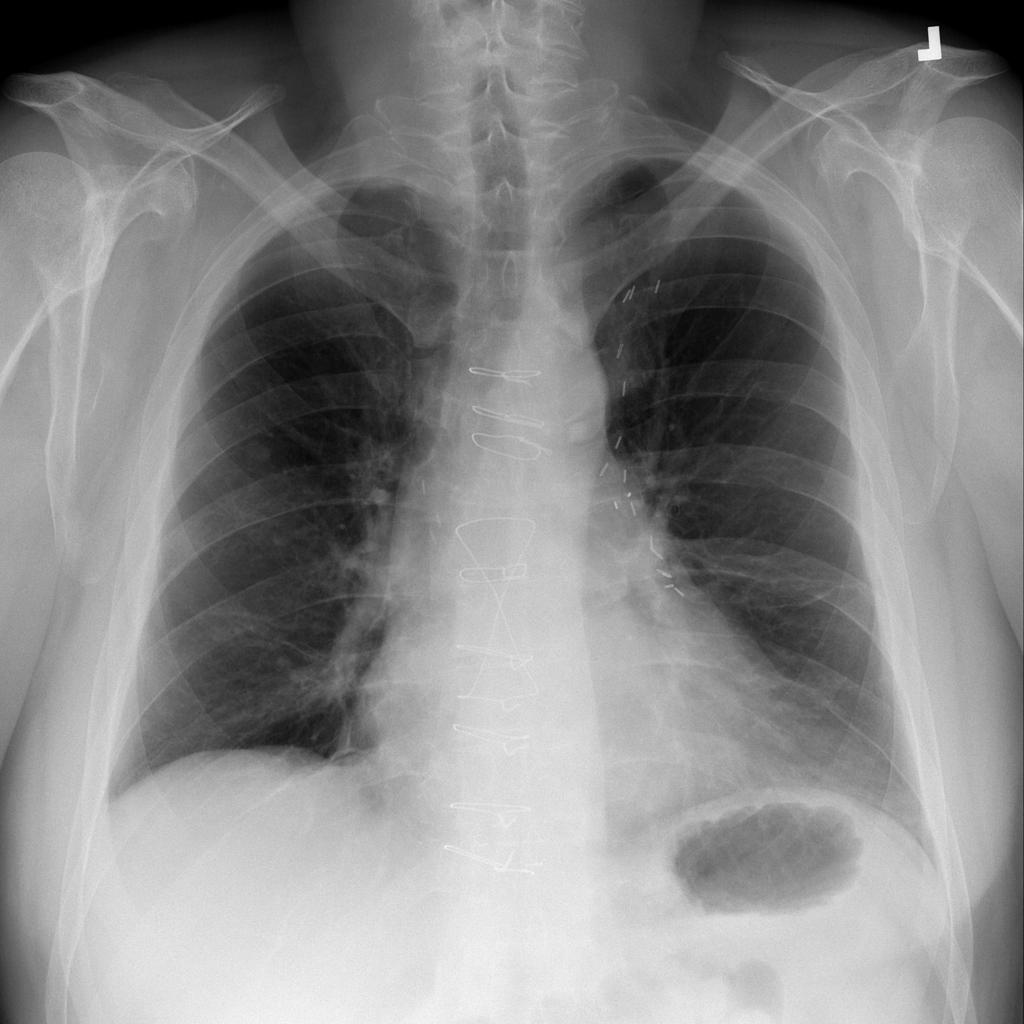nodule: (224, 412, 293, 484)
